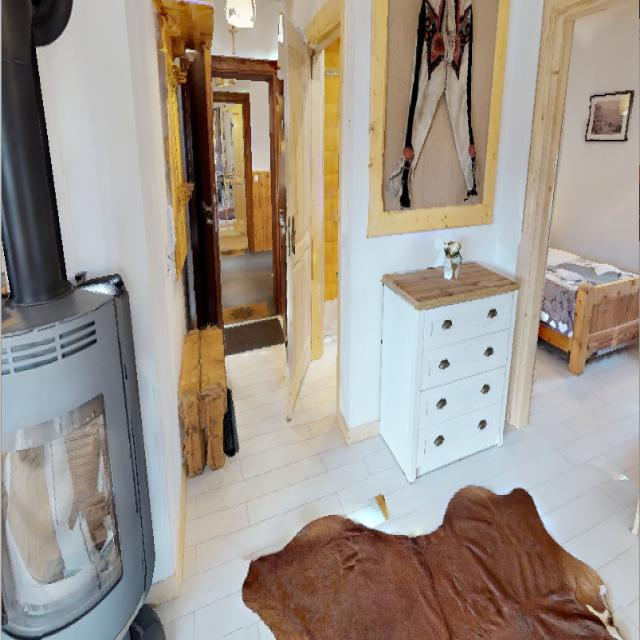bed: (543, 225, 640, 376)
door: (283, 26, 315, 420)
door-frame: (503, 0, 640, 422), (205, 52, 283, 348), (314, 36, 346, 417), (212, 90, 249, 260)
